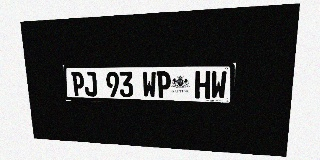3: (119, 71, 133, 97)
9: (106, 71, 120, 97)
H: (195, 71, 210, 99)
J: (84, 72, 97, 96)
P: (156, 71, 171, 98), (71, 72, 85, 96)
W: (210, 71, 227, 99), (142, 71, 156, 98)
